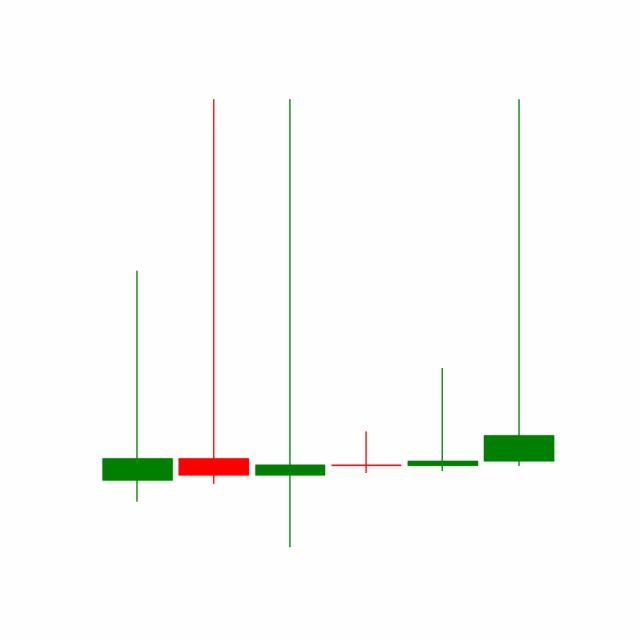Spinning Top: (404, 367, 482, 473)
